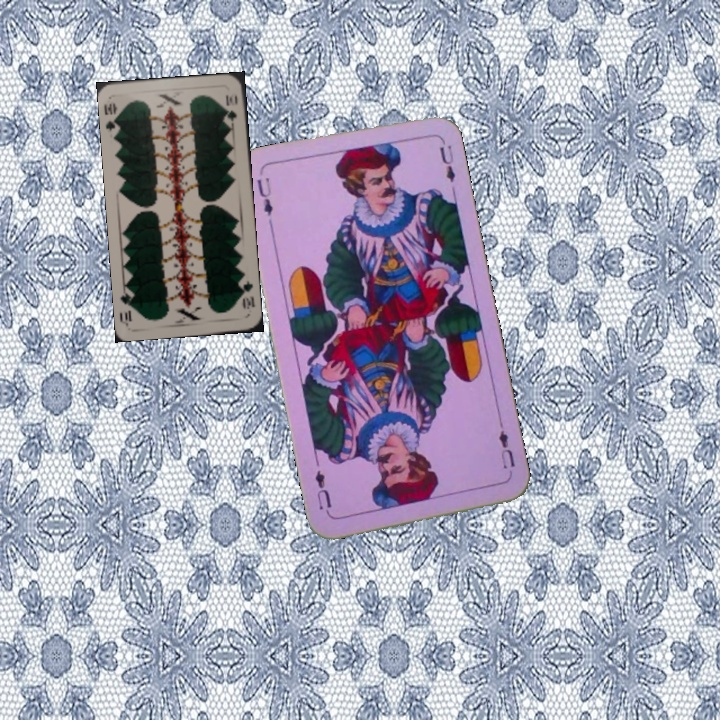EU: (495, 419, 518, 478), (253, 173, 276, 230)
G10: (101, 99, 122, 137), (236, 276, 257, 312)
